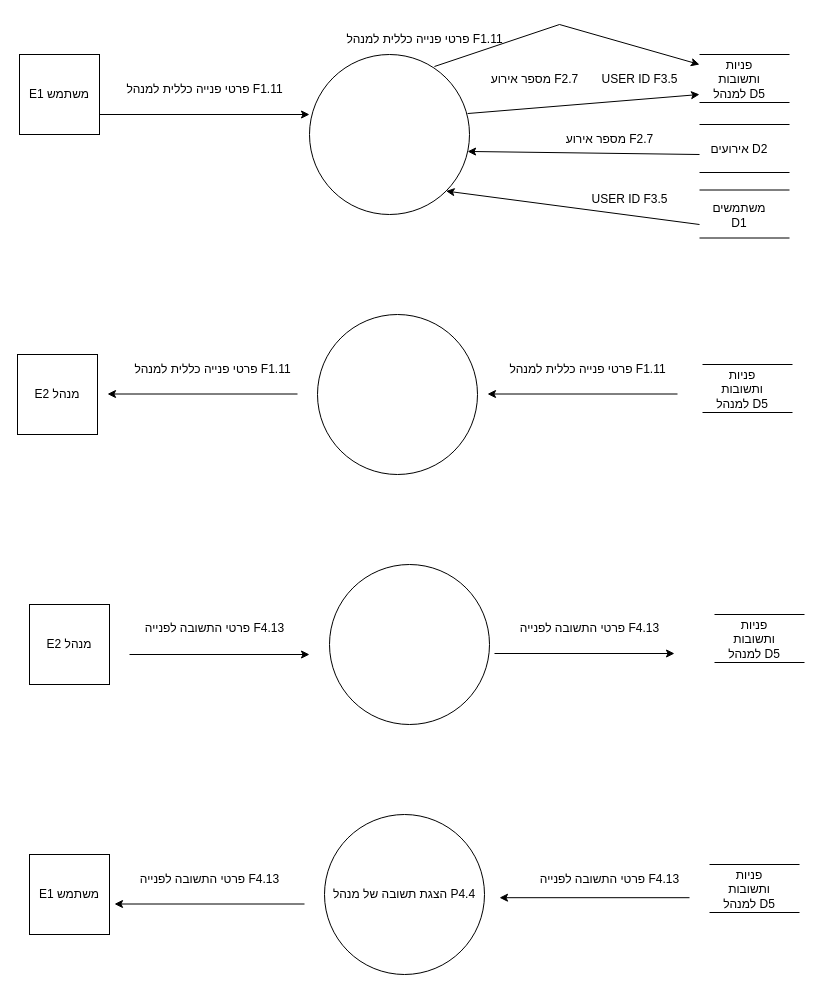
Image size: 823x992. Some labels were removed from this diagram. Here are the shapes that lost their labels. From the top down, the centre of each, then its label:
At (x=389, y=134): "טיפול בשליחת הודעה למנהל P 4.1".
At (x=397, y=394): "טיפול בקבלת פנייה מהמשתמש למנהל P 4.2".
At (x=409, y=644): "החזרת תשובה לפנייה P4.3".
